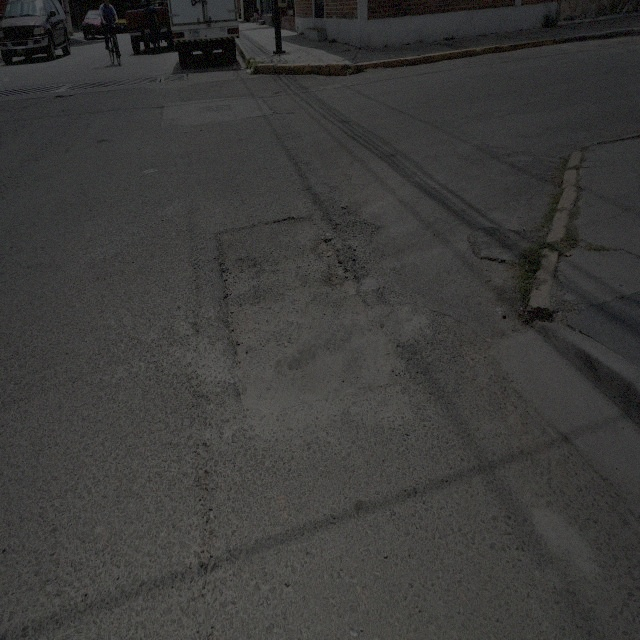pothole: (213, 213, 403, 413), (316, 238, 356, 288)
